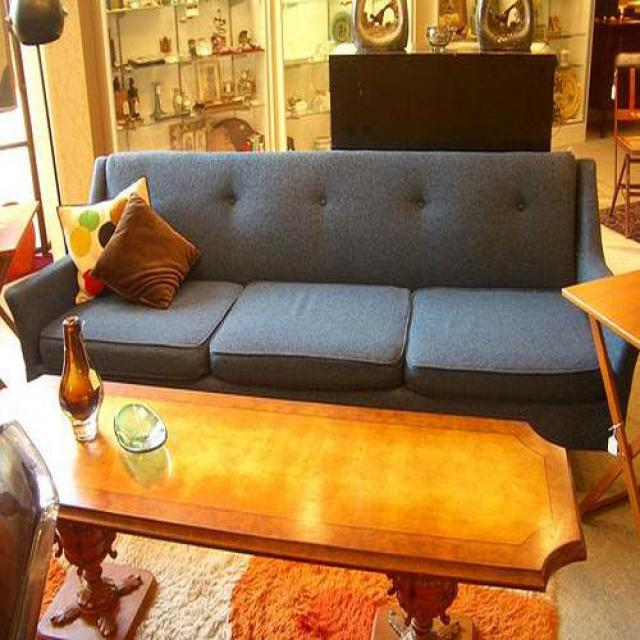sofa: (0, 151, 614, 453)
